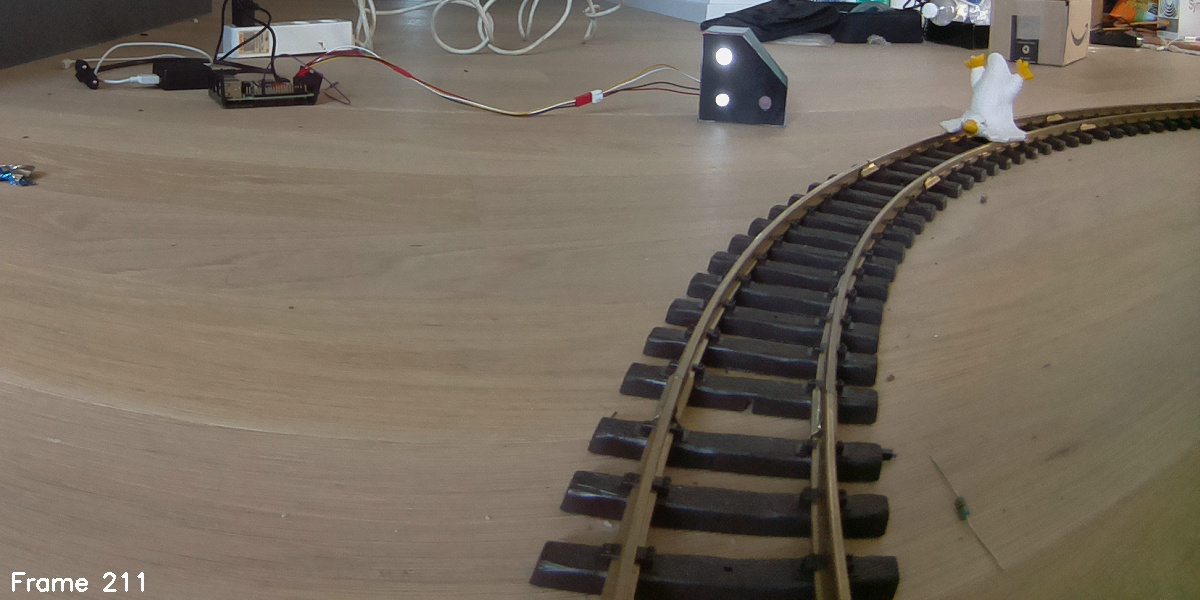Ente: (938, 49, 1030, 153)
Fahrt: (700, 23, 789, 127)
